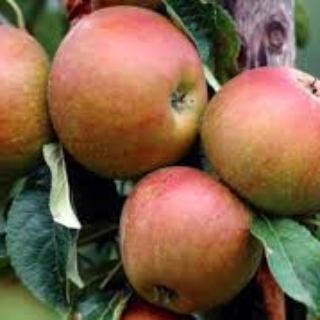tao: (47, 4, 210, 181), (115, 161, 264, 315)
